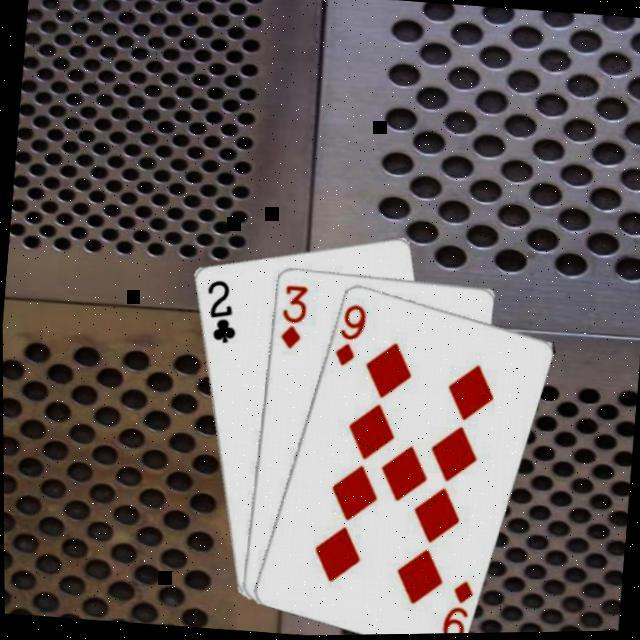2C: (195, 277, 239, 349)
3D: (272, 283, 308, 354)
9D: (327, 301, 367, 372), (432, 578, 472, 635)
